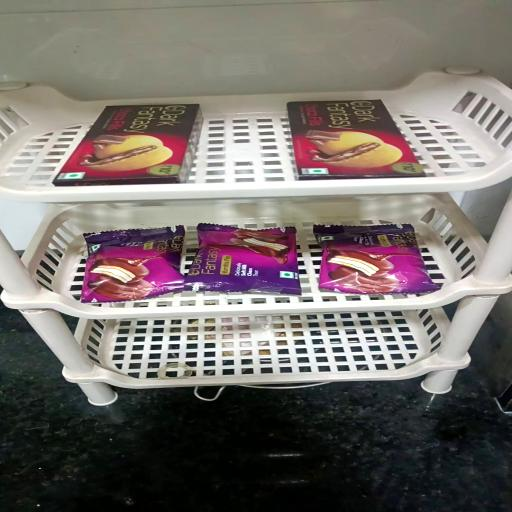Choco Fills: (52, 103, 200, 186), (288, 98, 426, 178)
Choco Pie: (315, 224, 439, 296), (80, 227, 190, 304), (187, 225, 301, 295)
